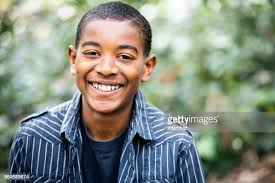person: (67, 1, 157, 115)
